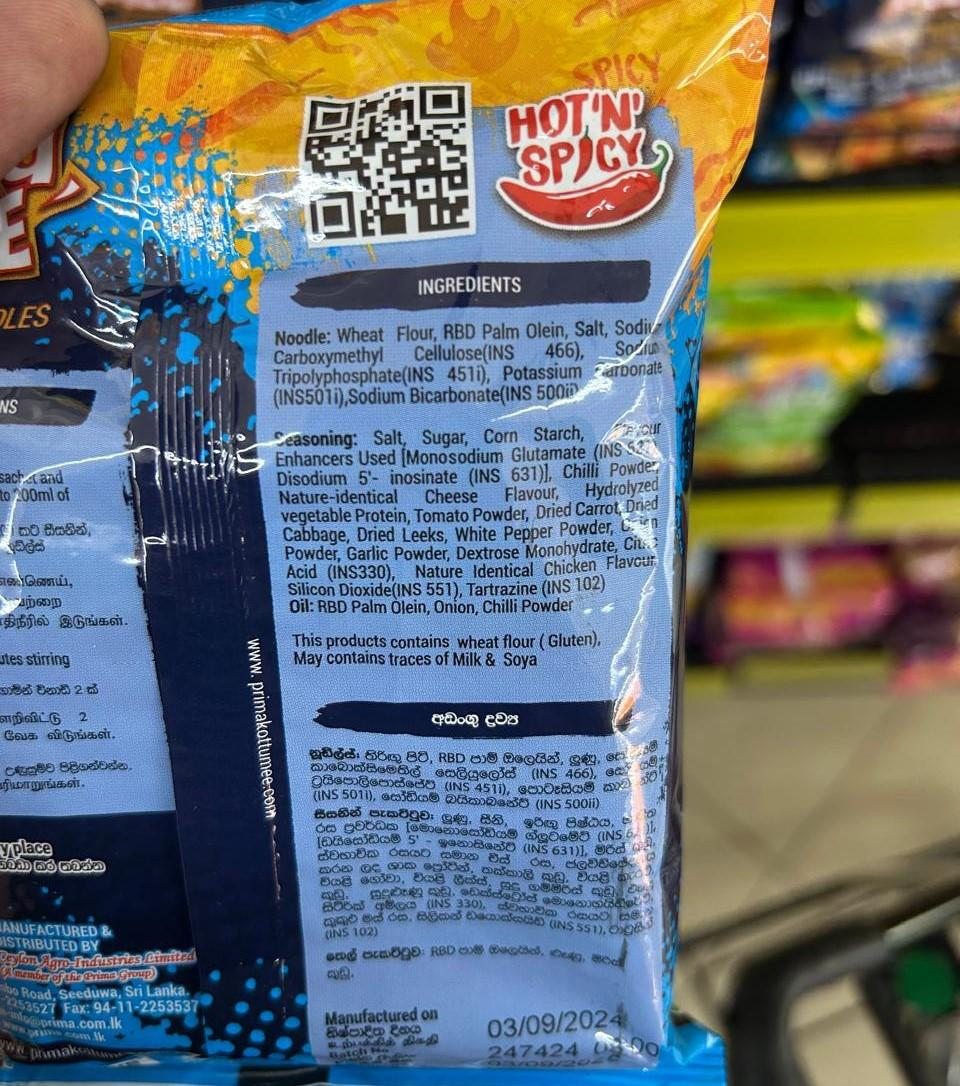ingredients: (226, 192, 766, 658)
